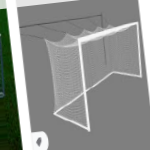goals: (45, 20, 144, 133)
